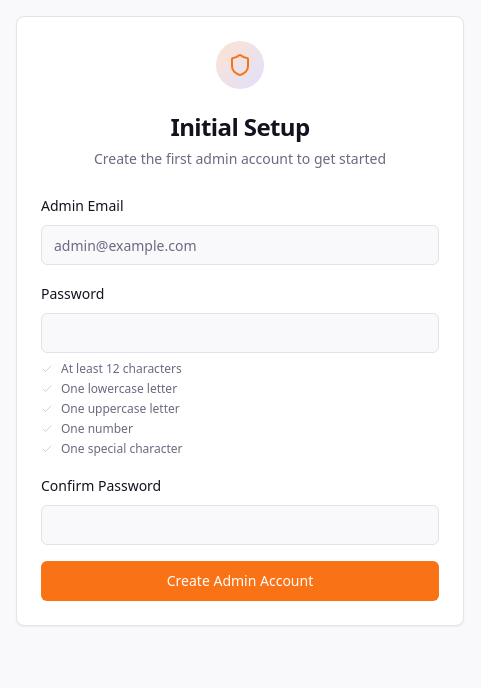
Test case: SetupPage › shows error when setup fails
The image size is (481, 688).
In the field labelled "Admin Email": [240, 245] box [41,225,439,265], type "taken@example.com"
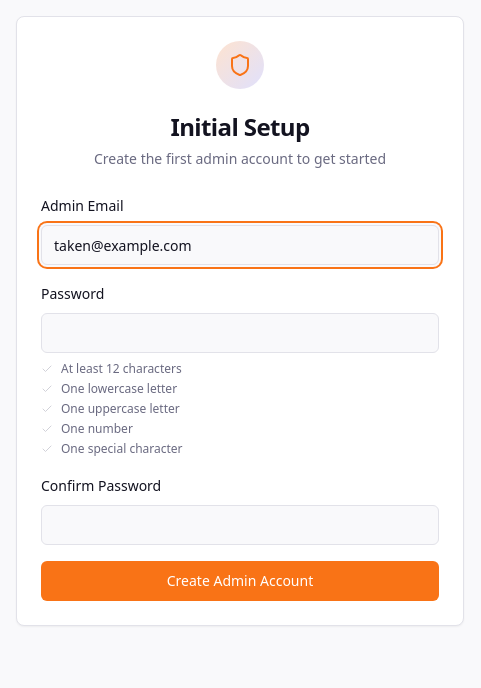
In the password field labelled "Password": [240, 333] box [41,313,439,353], type "SecurePass123!"
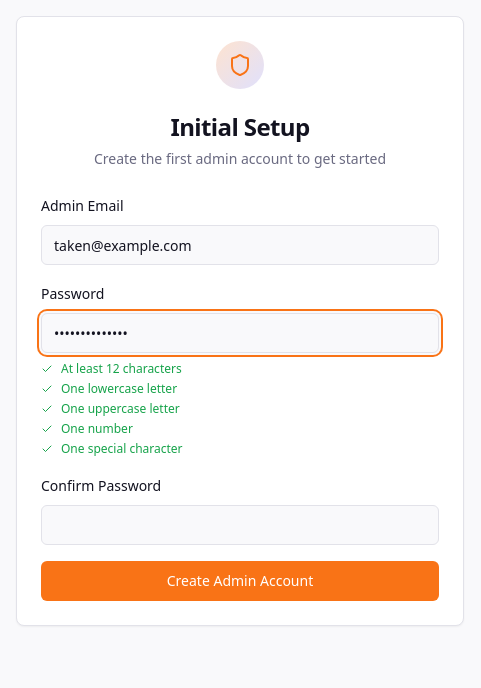
In the password field labelled "Confirm Password": [240, 525] box [41,505,439,545], type "SecurePass123!"
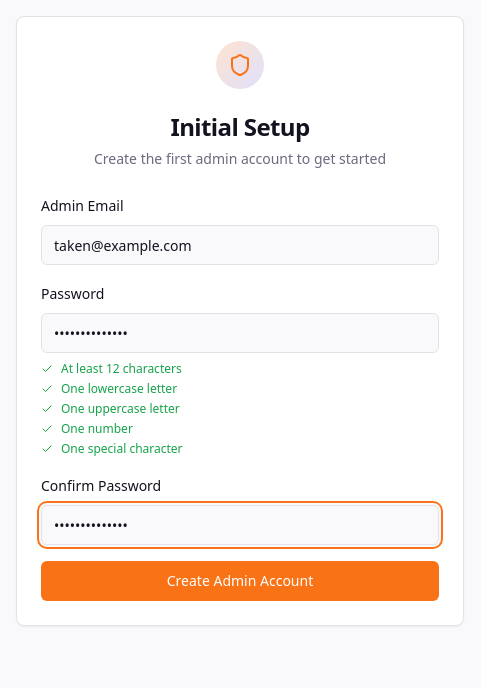
Click the button "Create Admin Account": [240, 581] box [41,561,439,601]
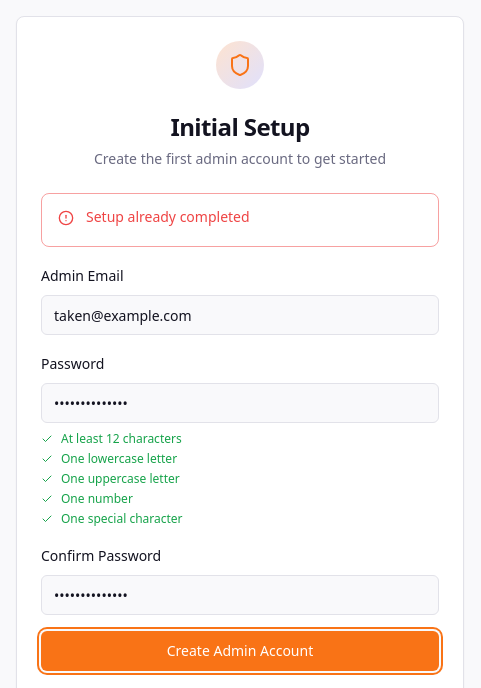
Expected: the text "Setup already completed" is shown, [86,207,250,226]
